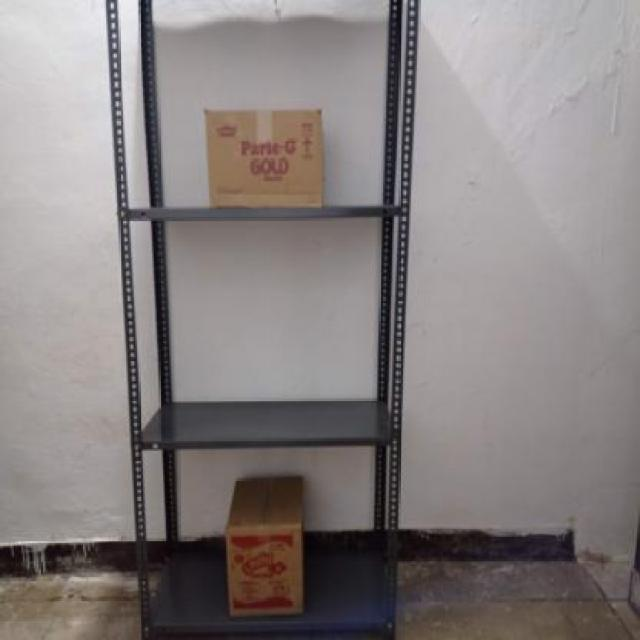box: (204, 107, 324, 213), (224, 523, 304, 617)
